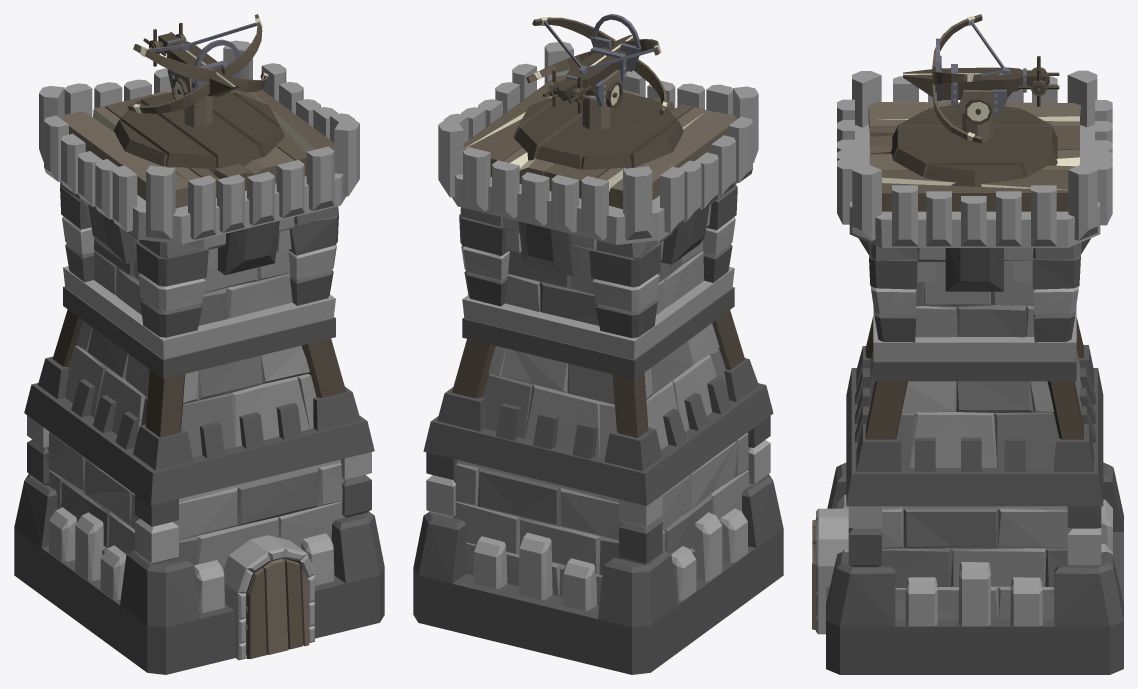
The model's file is _Ballista_tower_LVL_4.fbx.
3 views of the same model, side by side, from view 1: azimuth 30°, elevation 25°; view 2: azimuth 150°, elevation 25°; view 3: azimuth 270°, elevation 25° (orthographic).
Visible parts, largest first — view 1: Ballista_tower_LVL_4; view 2: Ballista_tower_LVL_4; view 3: Ballista_tower_LVL_4.
Part boxes in pixels (x1,y1,x2,y2): Ballista_tower_LVL_4: (14,14,384,674); Ballista_tower_LVL_4: (413,14,783,674); Ballista_tower_LVL_4: (812,14,1123,674).
Bounding box in the file's own units: 566 × 1291 × 634.
